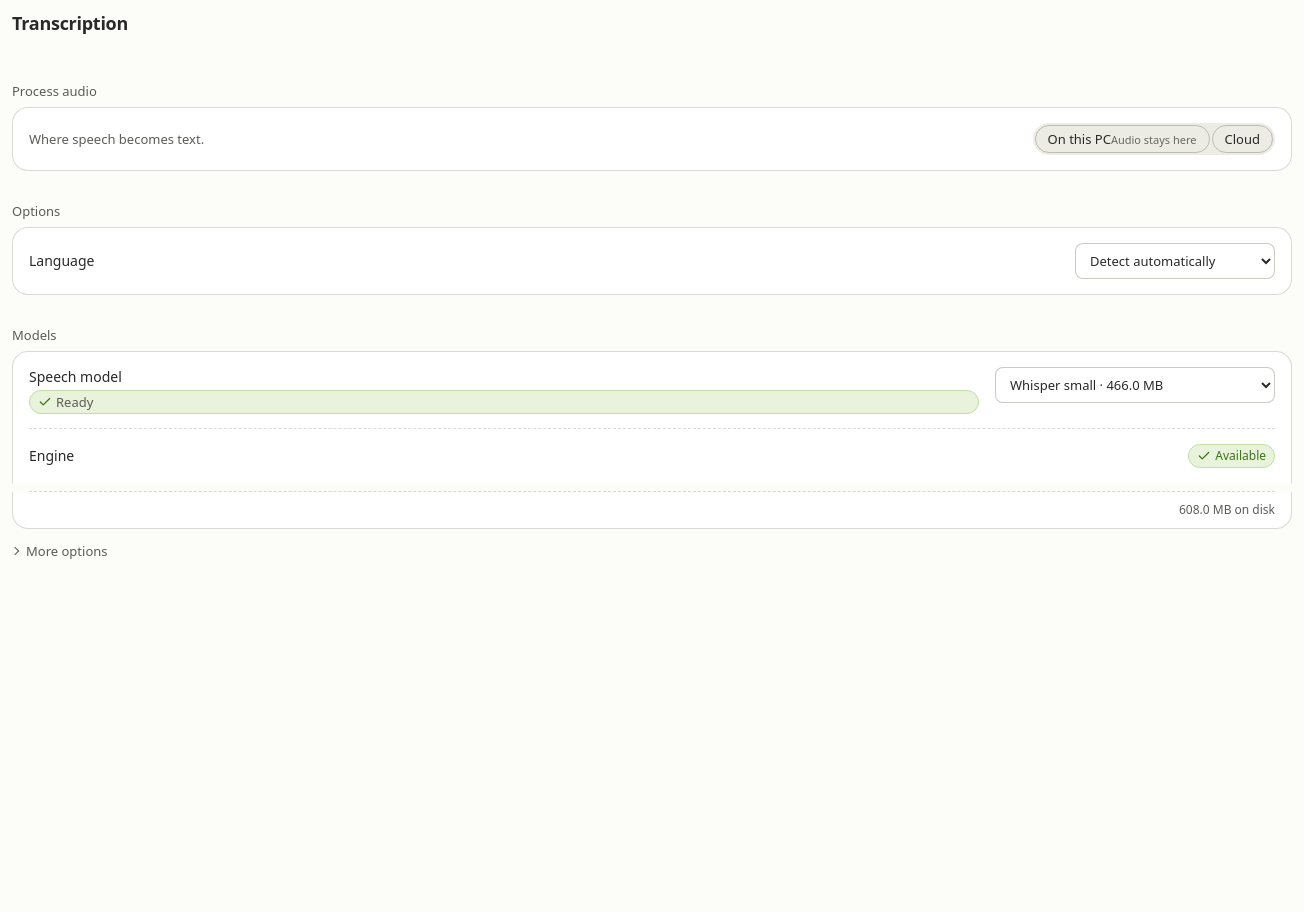
Scenario: mounts the own-model library only when Add your own model is opened
Click the heading "More options".
click(64, 551)  # box x1=12 y1=537 x2=116 y2=565
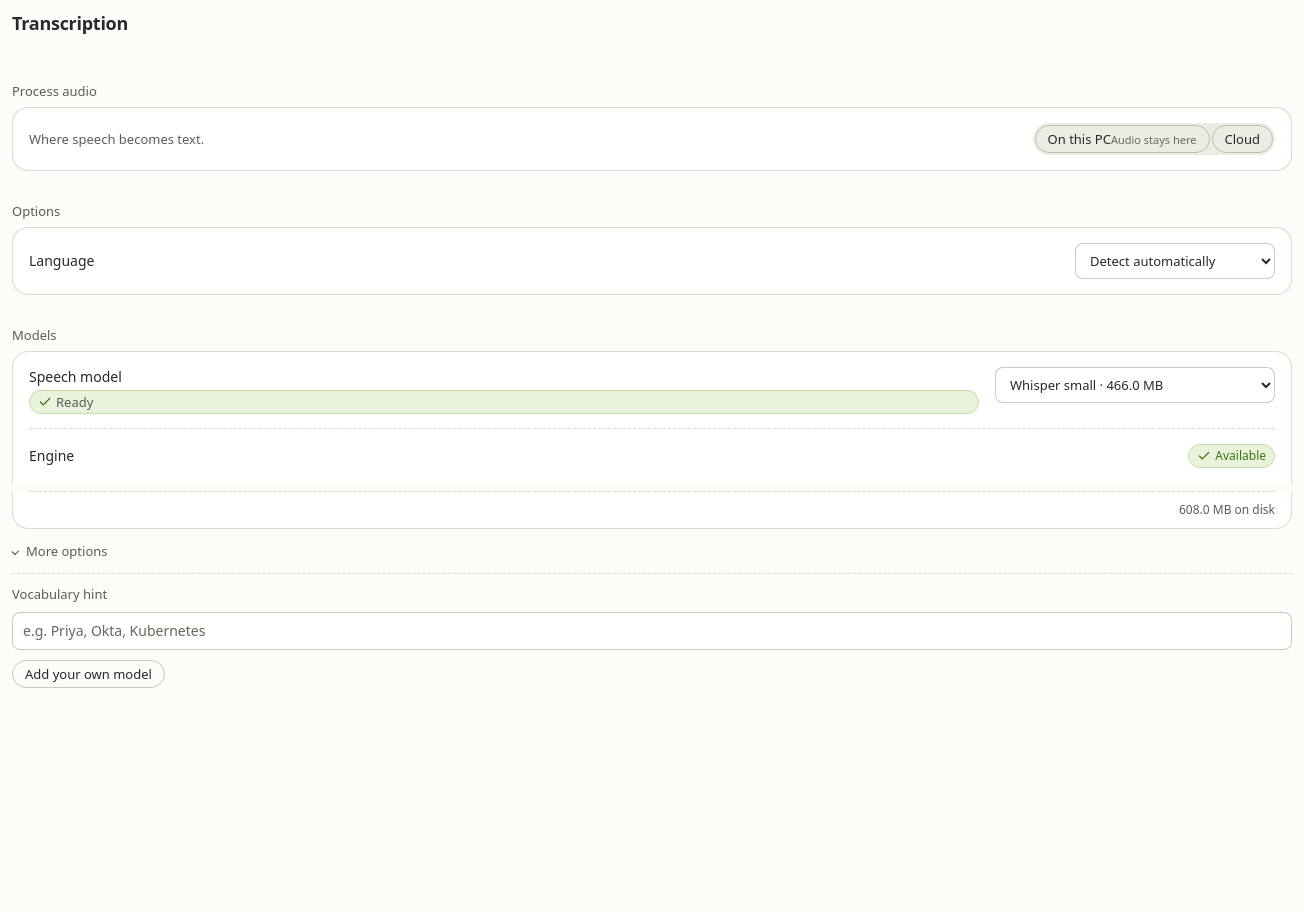
Expected: the text "model library" is not shown
Click the button "Add your own model".
click(88, 674)  # box x1=12 y1=660 x2=165 y2=688
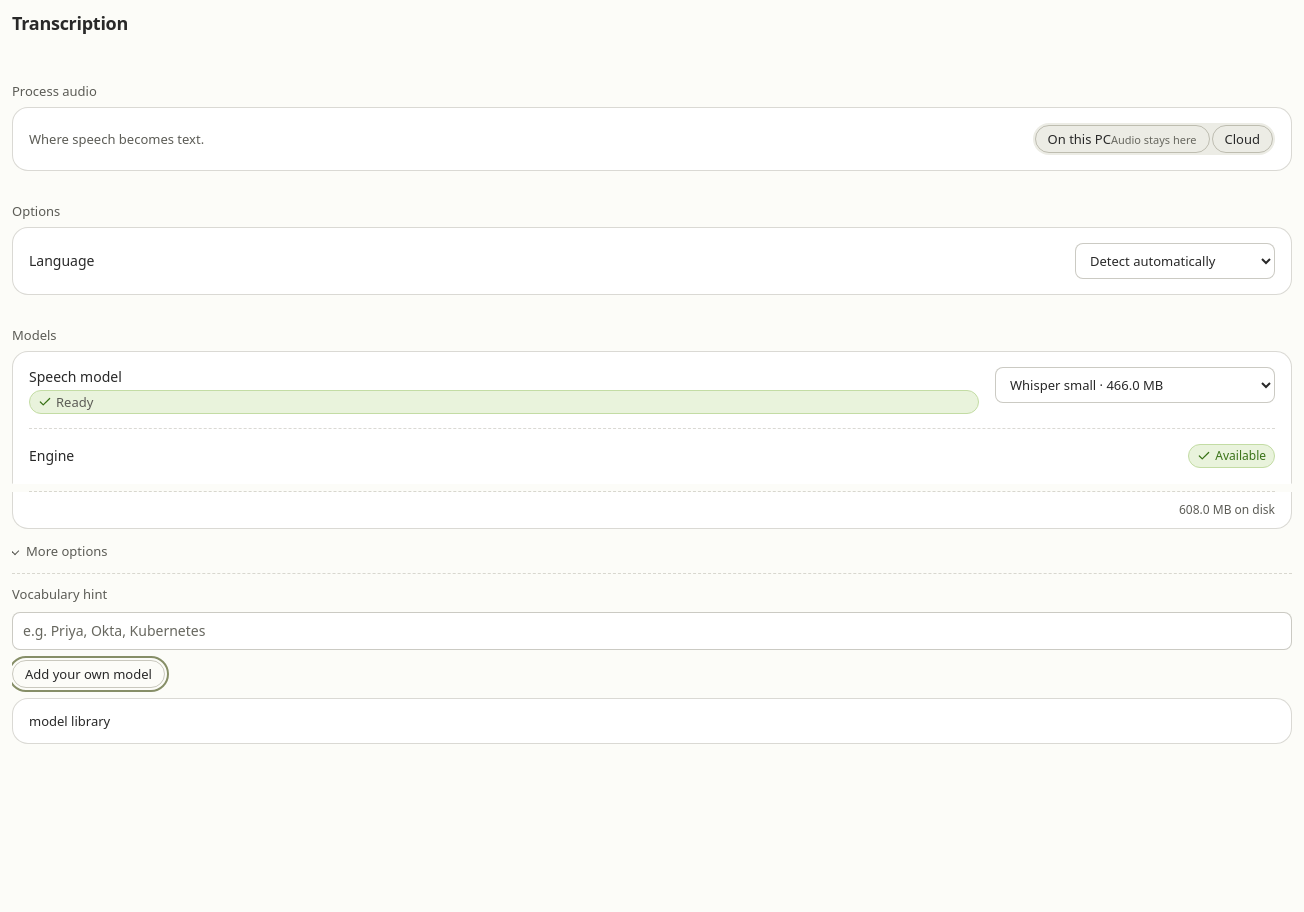
Expected: the text "model library" is shown, x1=29 y1=712 x2=110 y2=730
Click the button "Add your own model".
click(88, 674)  # box x1=12 y1=660 x2=165 y2=688
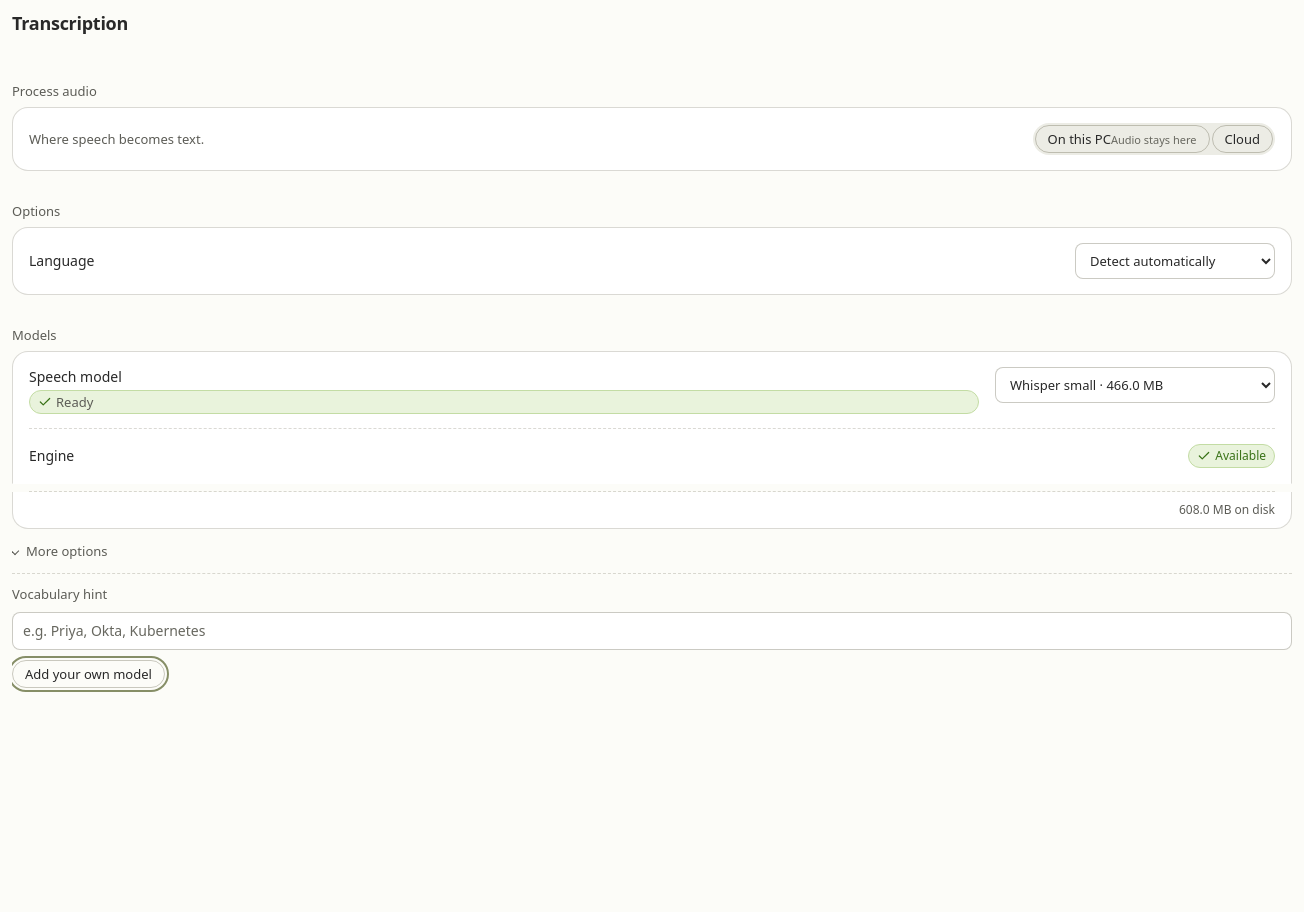
Expected: the text "model library" is gone
